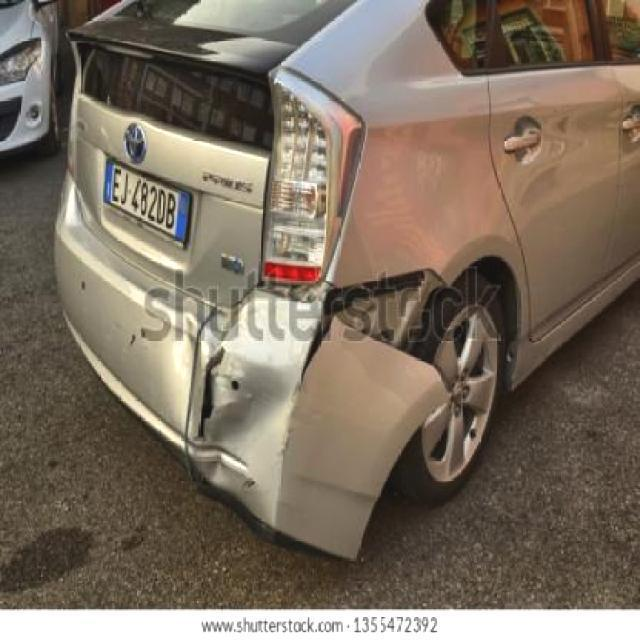minor: (185, 291, 449, 560)
